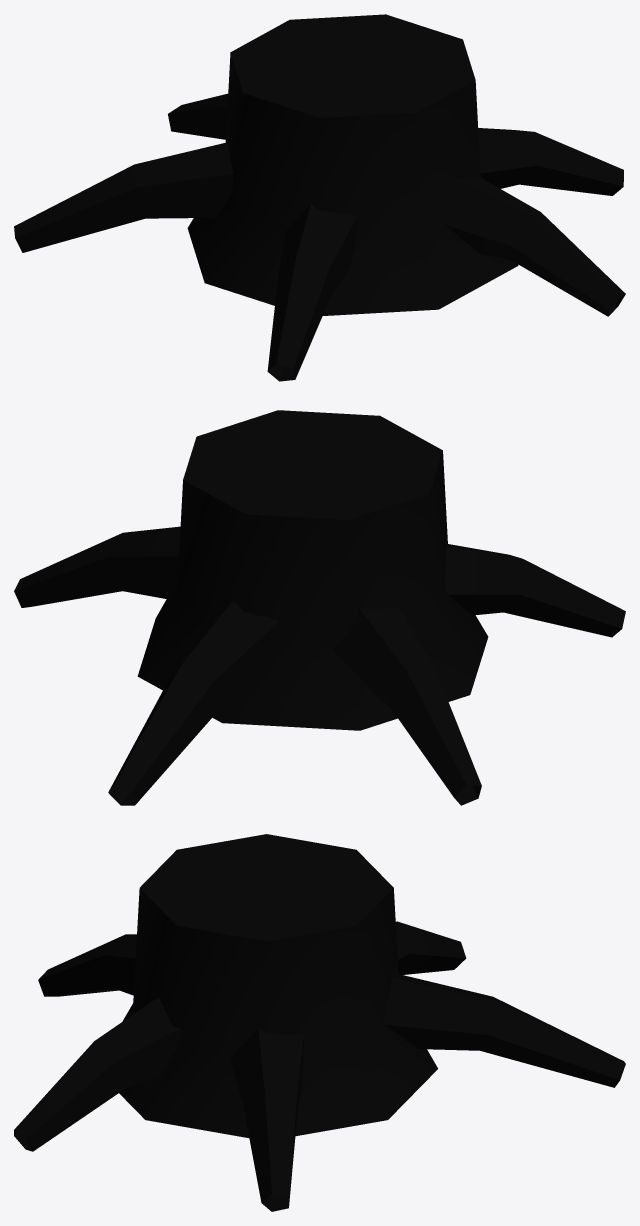
Rendered from SM_stump_rotten.fbx.
3 renders of one model, top to bottom at view 1: azimuth 30°, elevation 25°; view 2: azimuth 150°, elevation 25°; view 3: azimuth 270°, elevation 25°, orthographic. The views are drawn at different scales.
Visible parts, largest first — view 1: stump_rotten; view 2: stump_rotten; view 3: stump_rotten.
Part boxes in pixels (x1,y1,x2,y2): stump_rotten: [14, 14, 625, 381]; stump_rotten: [14, 410, 625, 805]; stump_rotten: [14, 834, 625, 1211].
Size of the model in its own units: 1.66 by 0.5968 by 1.68.
